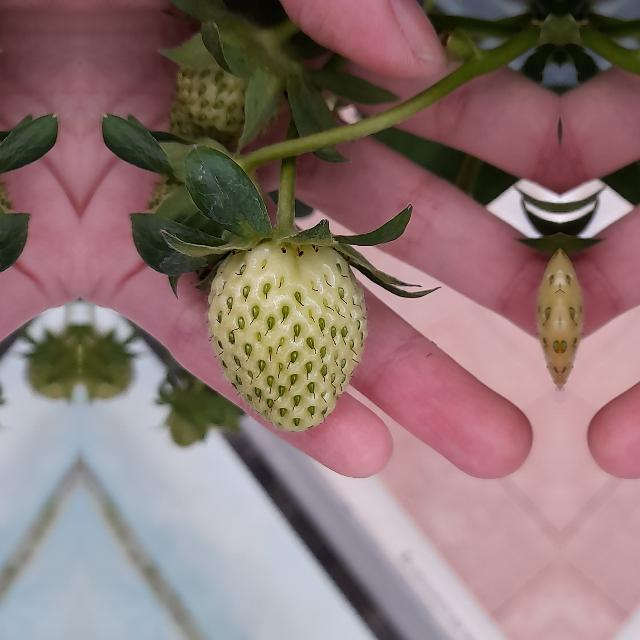Health_25: (208, 240, 368, 432), (175, 26, 271, 130)
